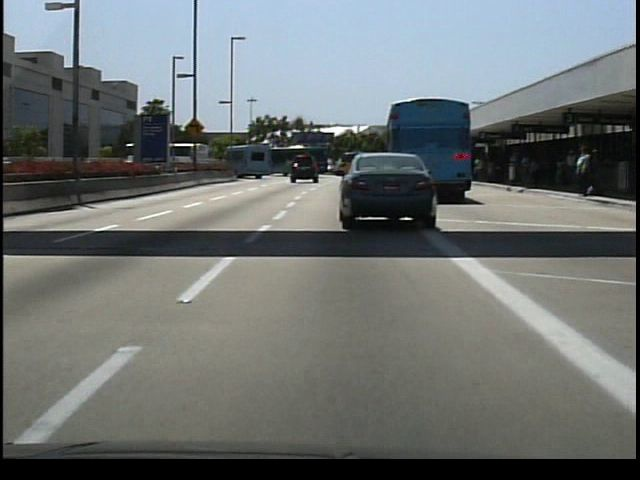person: (571, 144, 596, 200)
